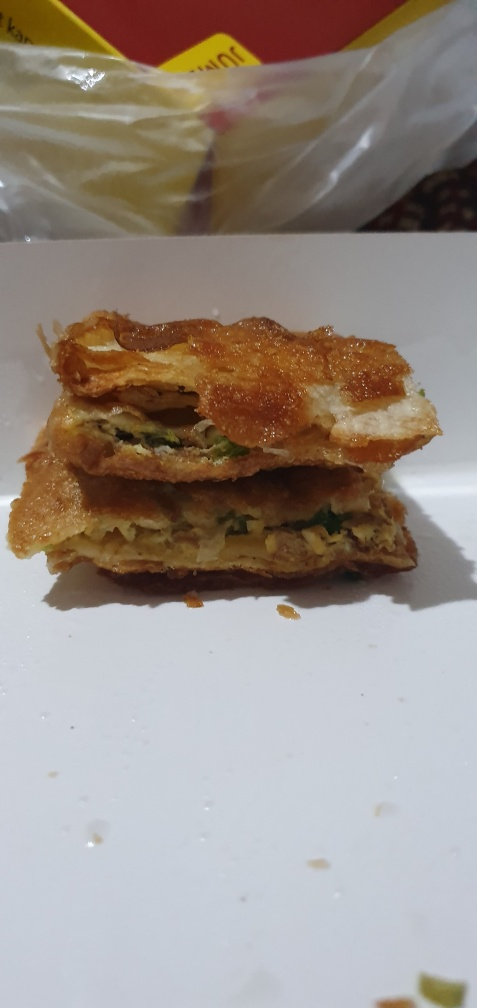martabak telor: (31, 279, 429, 477), (18, 460, 432, 598)
